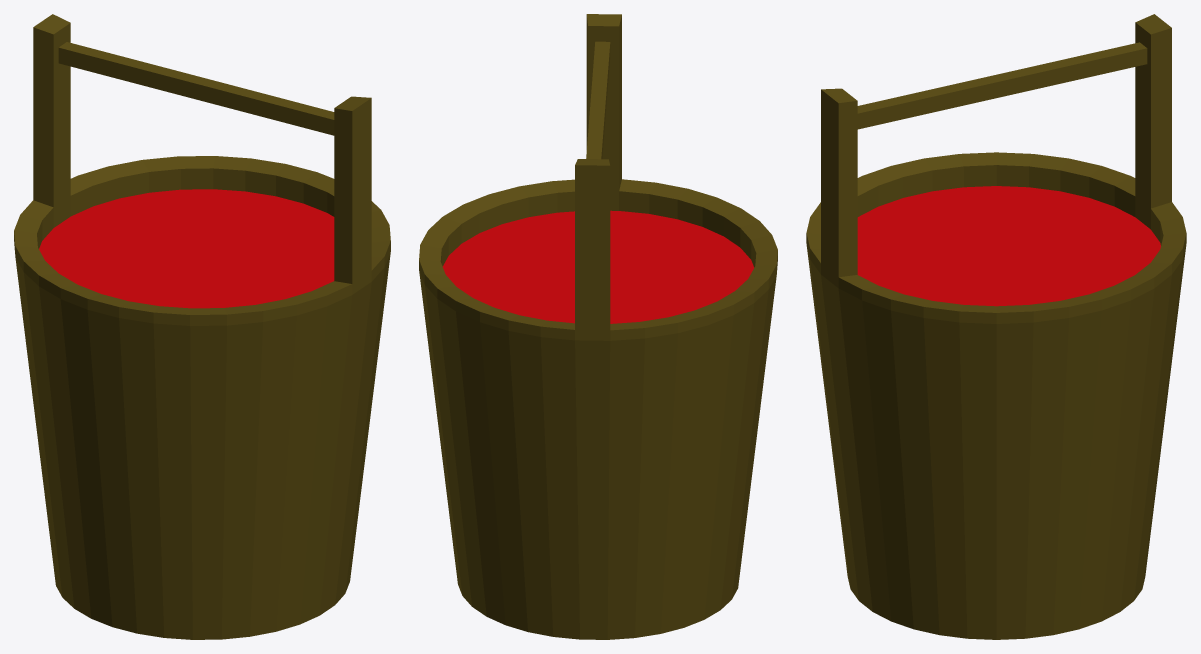
The model's file is RedPaintbucket.fbx.
3 renders of one model, left to right at view 1: azimuth 30°, elevation 25°; view 2: azimuth 150°, elevation 25°; view 3: azimuth 270°, elevation 25°, orthographic. The views are drawn at different scales.
Parts seen in each view (by area): view 1: Cylinder; view 2: Cylinder; view 3: Cylinder.
Boxes of the visible parts, left/top/right/bottom form: Cylinder: left=14, top=14, right=390, bottom=639; Cylinder: left=419, top=14, right=777, bottom=639; Cylinder: left=806, top=14, right=1186, bottom=639.
Bounding box in the file's own units: 200 × 301 × 200.
